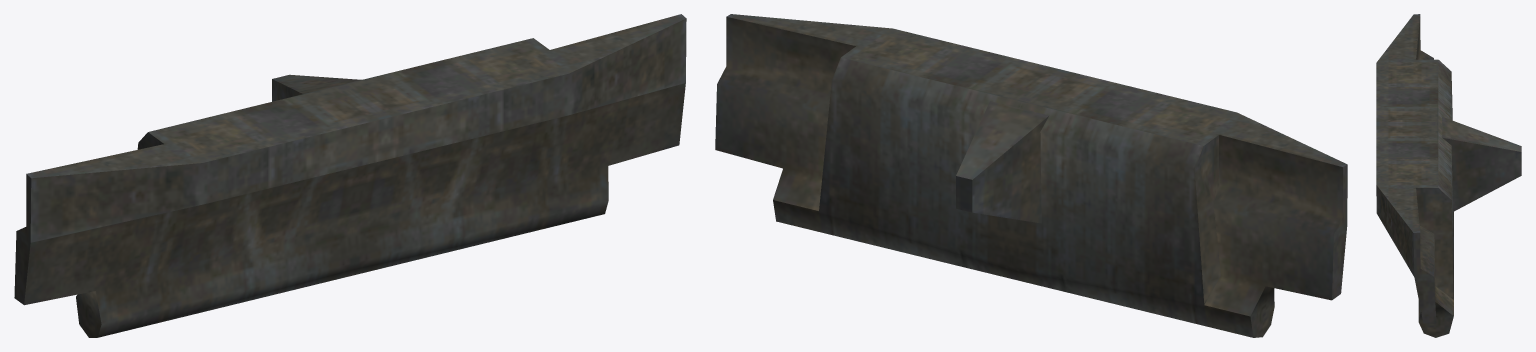
The picture shows the model from 3 angles, left to right: view 1: azimuth 30°, elevation 25°; view 2: azimuth 150°, elevation 25°; view 3: azimuth 270°, elevation 25°; orthographic projection. The views are drawn at different scales.
Visible parts, largest first — view 1: set_0_group_0; view 2: set_0_group_0; view 3: set_0_group_0.
Boxes of the visible parts, x1,y1,x2,y2 form: set_0_group_0: (14,14,686,337); set_0_group_0: (715,14,1347,337); set_0_group_0: (1376,14,1521,337).
Bounding box in the file's own units: 0.64 × 0.1777 × 0.1797.
1 material, 1 textured.
